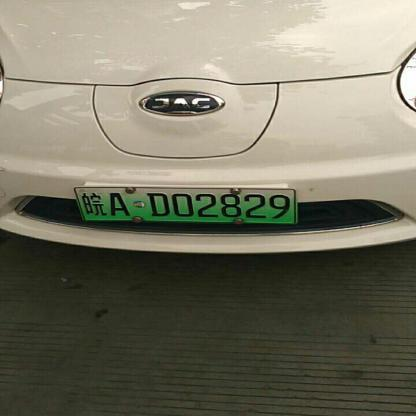lp: (75, 187, 294, 221)
